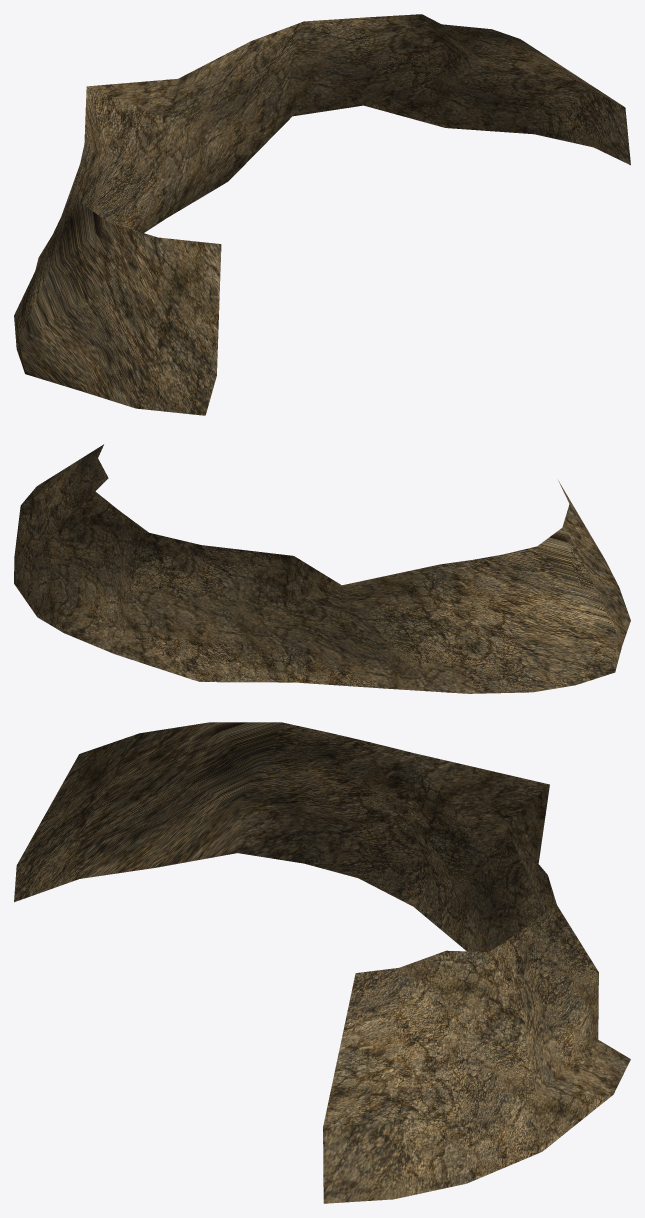
Rendered from CH09_SMAUG_PLAYSURFACE_LONELYMOUNTAIN_LM_PLAYSURFACE20.fbx.
3 renders of one model, top to bottom at view 1: azimuth 30°, elevation 25°; view 2: azimuth 150°, elevation 25°; view 3: azimuth 270°, elevation 25°, orthographic. The views are drawn at different scales.
Visible parts, largest first — view 1: CH09_SMAUG_PLAYSURFACE_LONELYMOUNTAIN_LM_PLAYSURFACE20; view 2: CH09_SMAUG_PLAYSURFACE_LONELYMOUNTAIN_LM_PLAYSURFACE20; view 3: CH09_SMAUG_PLAYSURFACE_LONELYMOUNTAIN_LM_PLAYSURFACE20.
Part boxes in pixels (x1,y1,x2,y2): CH09_SMAUG_PLAYSURFACE_LONELYMOUNTAIN_LM_PLAYSURFACE20: (14, 14, 630, 415); CH09_SMAUG_PLAYSURFACE_LONELYMOUNTAIN_LM_PLAYSURFACE20: (14, 444, 630, 693); CH09_SMAUG_PLAYSURFACE_LONELYMOUNTAIN_LM_PLAYSURFACE20: (14, 722, 630, 1203).
Bounding box in the file's own units: 566180 × 139894 × 381969.
Materials: 1 (1 with a texture image).
